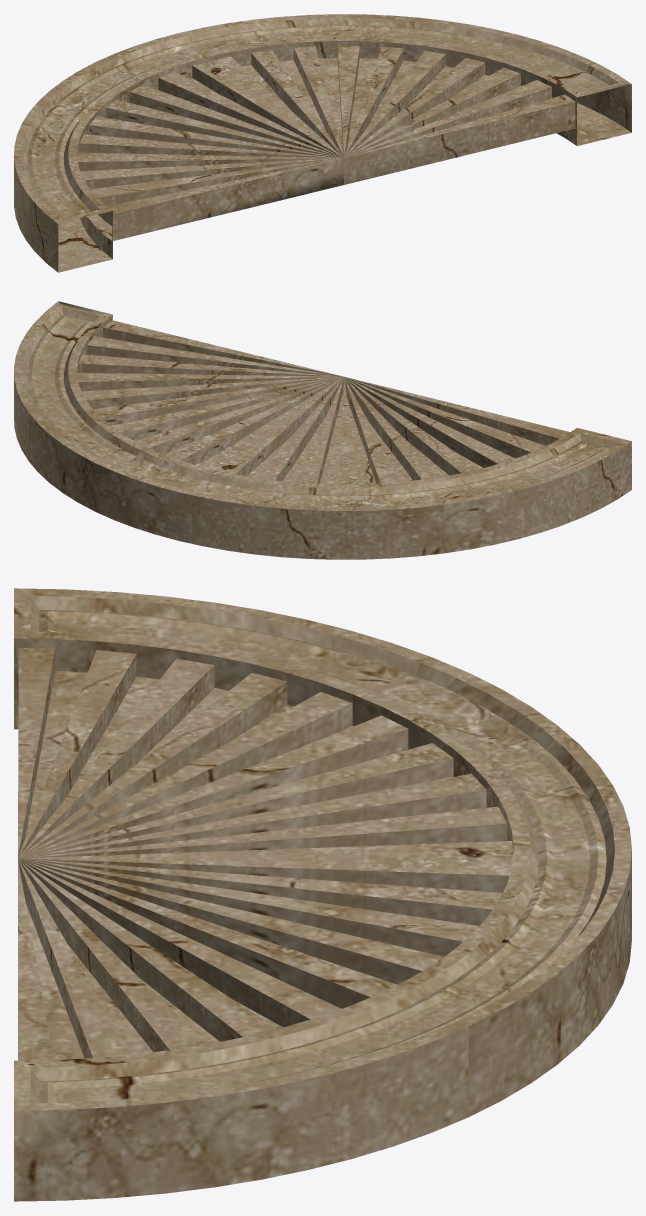
The model's file is pasted__stone_column_851.fbx.
The picture shows the model from 3 angles, top to bottom: view 1: azimuth 30°, elevation 25°; view 2: azimuth 150°, elevation 25°; view 3: azimuth 270°, elevation 25°; orthographic projection. The views are drawn at different scales.
Visible parts, largest first — view 1: pasted__stone_column_851; view 2: pasted__stone_column_851; view 3: pasted__stone_column_851.
Part boxes in pixels (left/top/right/bottom): pasted__stone_column_851: left=14, top=14, right=631, bottom=272; pasted__stone_column_851: left=14, top=301, right=631, bottom=559; pasted__stone_column_851: left=14, top=588, right=631, bottom=1201.
Size of the model in its own units: 65.31 by 32.66 by 5.29.
